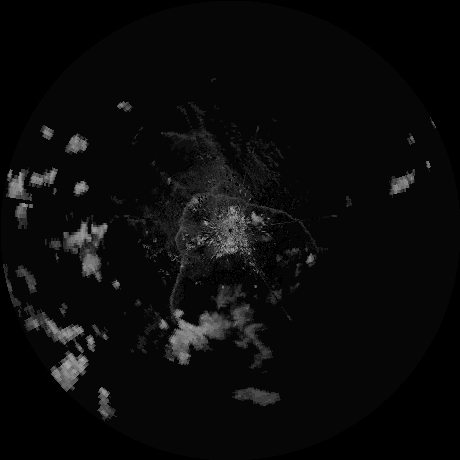frontgust: (194, 191, 319, 252), (170, 198, 197, 318)
